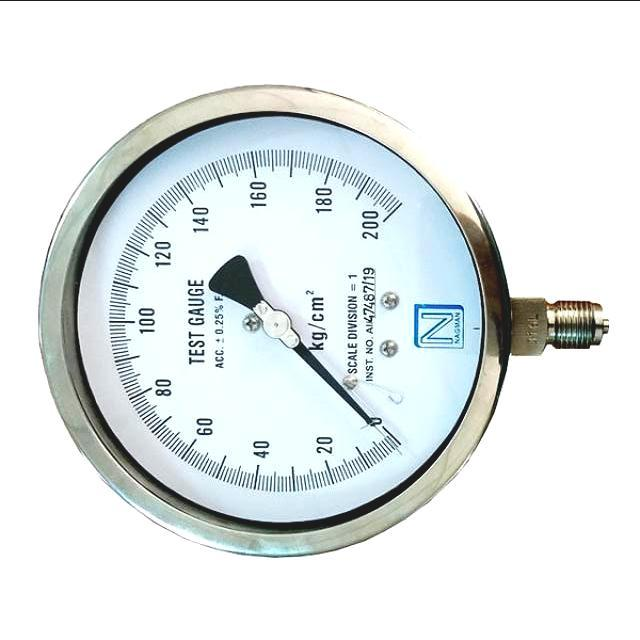Needle_Tip: (334, 362, 389, 457)
Needle_base: (256, 287, 302, 353)
max_value: (343, 178, 405, 262)
min_value: (342, 392, 413, 445)
